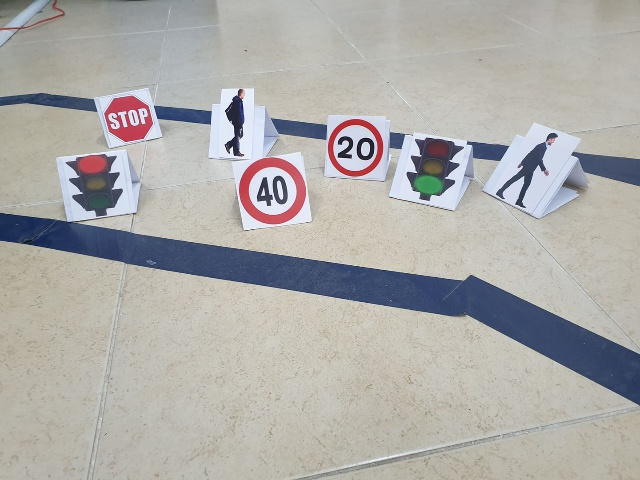Green: (406, 136, 463, 209)
Limit 20: (326, 122, 385, 179)
Limit 40: (236, 162, 306, 221)
Person: (504, 128, 560, 208), (221, 87, 251, 156)
Red: (60, 155, 127, 217)
Stop: (99, 93, 156, 142)
